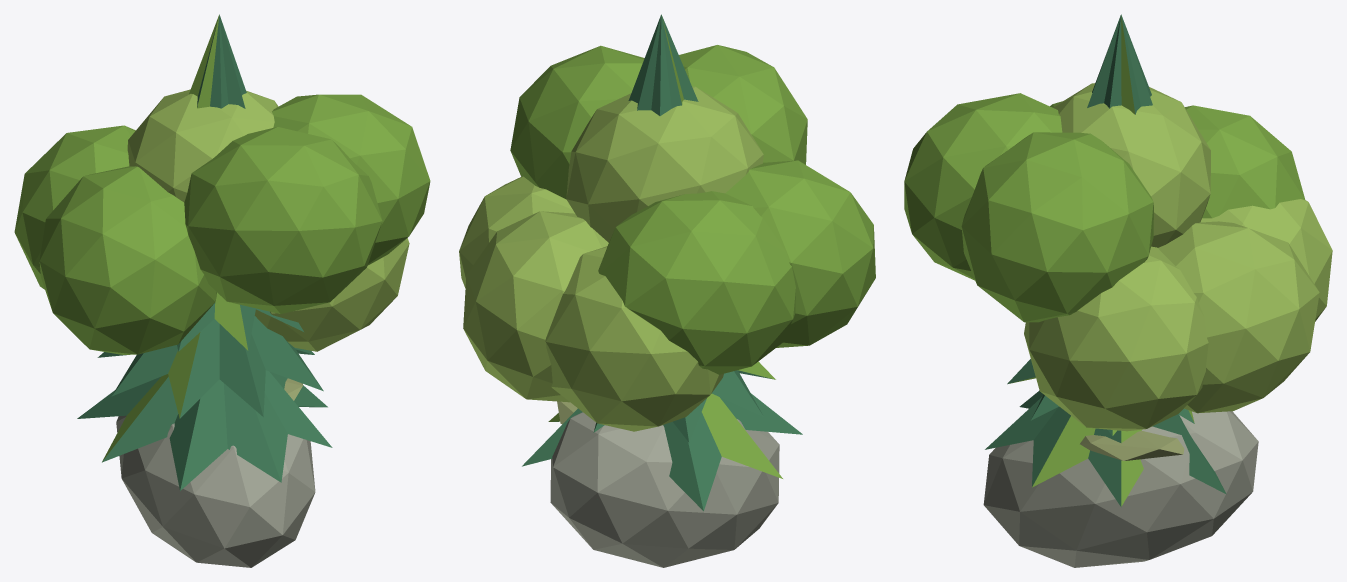
The model's file is nature.glb.
3 renders of one model, left to right at view 1: azimuth 30°, elevation 25°; view 2: azimuth 150°, elevation 25°; view 3: azimuth 270°, elevation 25°, orthographic. The views are drawn at different scales.
Parts seen in each view (by area): view 1: oak, pine, rock; view 2: oak, rock, pine; view 3: oak, rock, pine.
Part boxes in pixels (bbox=[...]): oak: bbox=[14, 89, 430, 354]; pine: bbox=[77, 14, 332, 490]; rock: bbox=[116, 378, 315, 567]; oak: bbox=[459, 45, 875, 431]; rock: bbox=[550, 401, 779, 567]; pine: bbox=[522, 14, 802, 511]; oak: bbox=[904, 83, 1332, 431]; rock: bbox=[983, 411, 1258, 567]; pine: bbox=[985, 14, 1226, 506].
Size of the model in its own units: 1.02 by 1.42 by 1.
